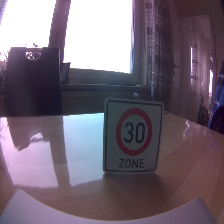dreisiger_zone: (103, 97, 163, 175)
